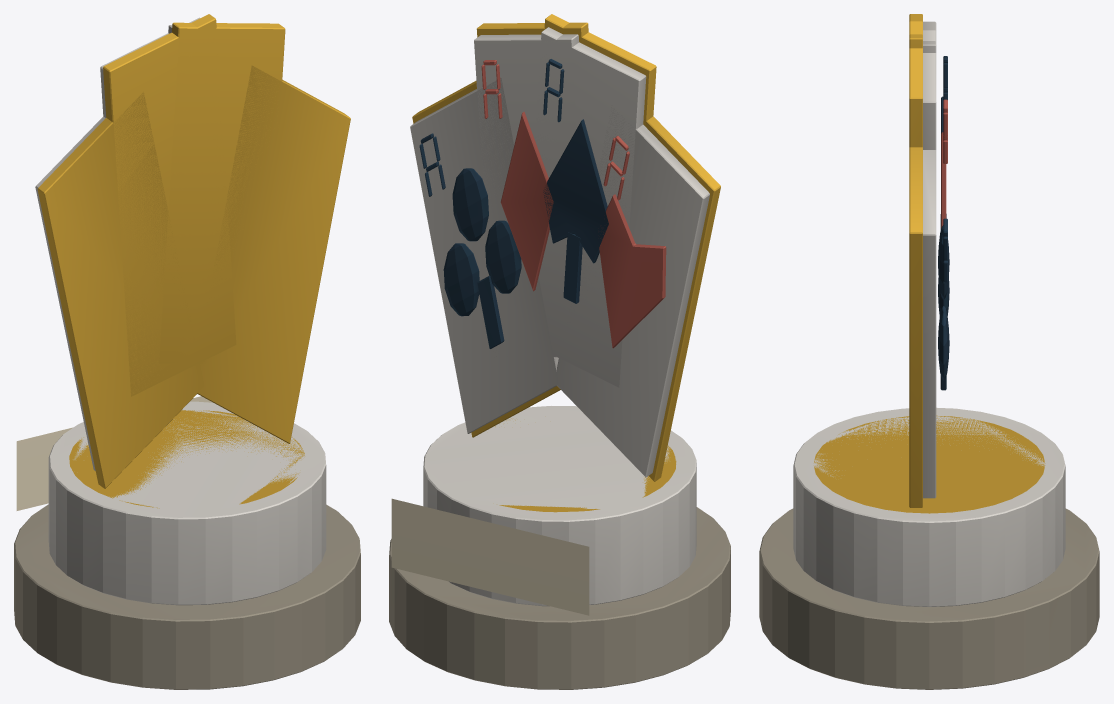
File: trophy_klondike.glb
3 views of the same model, side by side, from view 1: azimuth 30°, elevation 25°; view 2: azimuth 150°, elevation 25°; view 3: azimuth 270°, elevation 25° (orthographic). The views are drawn at different scales.
Parts seen in each view (by area): view 1: symbol, common_pedestal, trophy_plate; view 2: symbol, common_pedestal, trophy_plate; view 3: common_pedestal, symbol.
Boxes of the visible parts, box(x1,y1,x2,y2) form: symbol: box(35, 14, 350, 488); common_pedestal: box(14, 401, 360, 689); trophy_plate: box(16, 396, 212, 510); symbol: box(410, 14, 720, 481); common_pedestal: box(389, 406, 730, 689); trophy_plate: box(391, 498, 589, 615); common_pedestal: box(759, 407, 1099, 689); symbol: box(909, 14, 949, 507).
Size of the model in its own units: 0.919 by 1.72 by 0.9.
